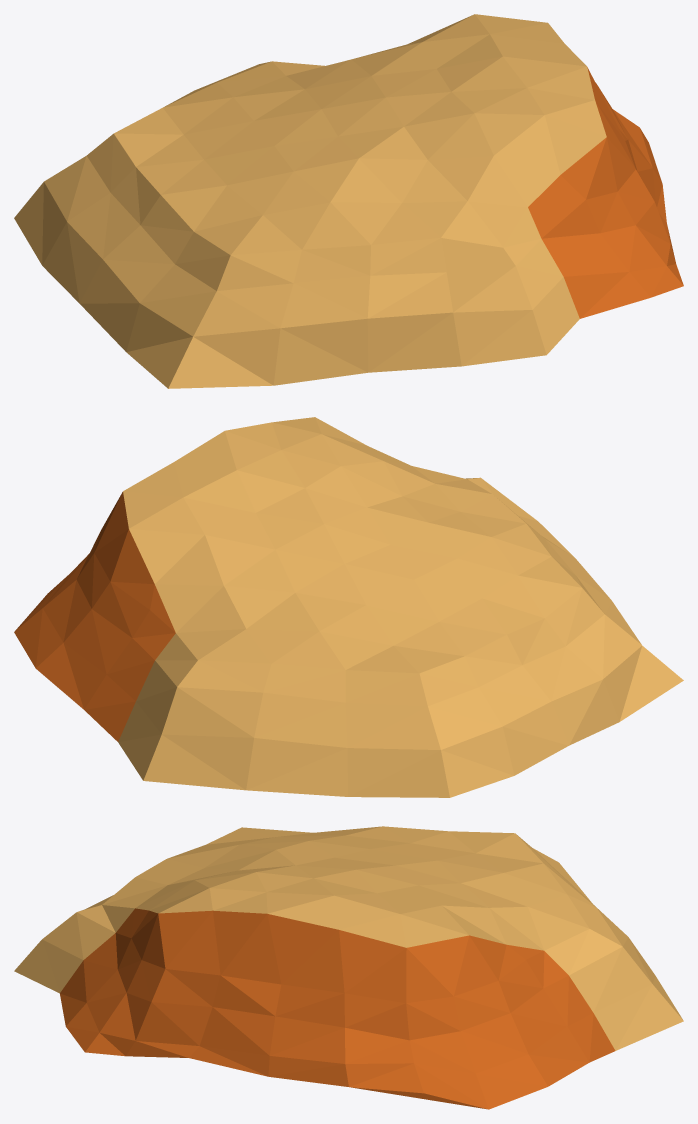
File: desert_relief_2.fbx
3 renders of one model, top to bottom at view 1: azimuth 30°, elevation 25°; view 2: azimuth 150°, elevation 25°; view 3: azimuth 270°, elevation 25°, orthographic. The views are drawn at different scales.
Visible parts, largest first — view 1: Icosphere.300; view 2: Icosphere.300; view 3: Icosphere.300.
Part boxes in pixels (bbox=[...]): Icosphere.300: bbox=[14, 14, 683, 388]; Icosphere.300: bbox=[14, 417, 683, 797]; Icosphere.300: bbox=[14, 826, 683, 1109].
Bounding box in the file's own units: 1556 × 504 × 1708.
